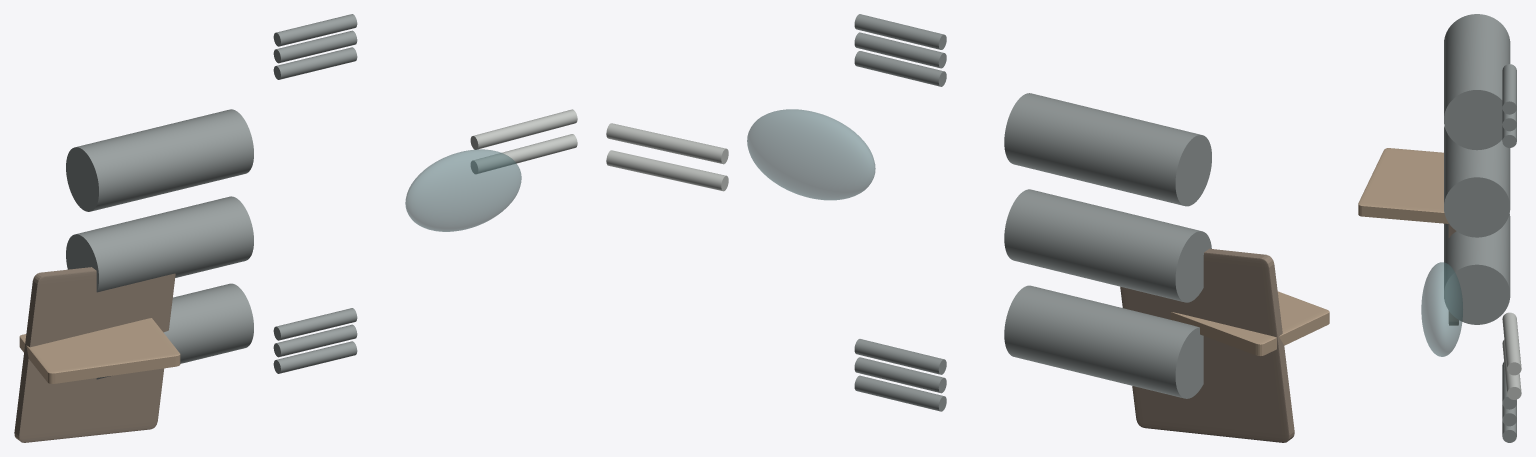
Rendered from d-u24-dominion-light-gunship-lod2.glb.
3 renders of one model, left to right at view 1: azimuth 30°, elevation 25°; view 2: azimuth 150°, elevation 25°; view 3: azimuth 270°, elevation 25°, orthographic. The views are drawn at different scales.
Visible parts, largest first — view 1: combat_tailplane_-1, combat_engine_2, combat_engine_1, combat_canopy, combat_fin_-1, combat_engine_0, combat_gun_barrel_1, combat_gun_barrel_0, combat_1_tube_3, combat_-1_tube_1, combat_1_tube_1, combat_-1_tube_2 (+2 smaller); view 2: combat_tailplane_-1, combat_engine_2, combat_engine_1, combat_engine_0, combat_canopy, combat_fin_-1, combat_gun_barrel_1, combat_gun_barrel_0, combat_-1_tube_1, combat_-1_tube_3, combat_1_tube_1, combat_1_tube_3 (+2 smaller); view 3: combat_engine_2, combat_engine_0, combat_engine_1, combat_fin_-1, combat_canopy, combat_gun_barrel_1, combat_1_tube_3, combat_gun_barrel_0, combat_-1_tube_3, combat_-1_tube_2, combat_1_tube_2, combat_-1_tube_1 (+1 smaller).
Part boxes in pixels (x1,y1,x2,y2): combat_tailplane_-1: (14, 267, 175, 442); combat_engine_2: (66, 109, 253, 211); combat_engine_1: (66, 196, 253, 292); combat_canopy: (405, 149, 521, 231); combat_fin_-1: (19, 318, 180, 383); combat_engine_0: (96, 283, 253, 379); combat_gun_barrel_1: (470, 109, 577, 149); combat_gun_barrel_0: (471, 134, 577, 173); combat_1_tube_3: (273, 14, 357, 46); combat_-1_tube_1: (273, 341, 357, 373); combat_1_tube_1: (273, 47, 357, 79); combat_-1_tube_2: (273, 324, 357, 357); combat_tailplane_-1: (1120, 248, 1294, 442); combat_engine_2: (1004, 93, 1211, 206); combat_engine_1: (1004, 189, 1211, 302); combat_engine_0: (1004, 285, 1203, 398); combat_canopy: (747, 109, 875, 200); combat_fin_-1: (1170, 291, 1329, 355); combat_gun_barrel_1: (606, 123, 728, 164); combat_gun_barrel_0: (606, 150, 728, 191); combat_-1_tube_1: (854, 375, 946, 411); combat_-1_tube_3: (854, 339, 946, 374); combat_1_tube_1: (854, 51, 946, 86); combat_1_tube_3: (854, 14, 946, 49); combat_engine_2: (1444, 14, 1510, 150); combat_engine_0: (1444, 214, 1510, 324); combat_engine_1: (1444, 126, 1510, 237); combat_fin_-1: (1358, 148, 1448, 223); combat_canopy: (1421, 262, 1462, 356); combat_gun_barrel_1: (1502, 312, 1521, 375); combat_1_tube_3: (1502, 64, 1516, 114); combat_gun_barrel_0: (1502, 340, 1521, 399); combat_-1_tube_3: (1502, 362, 1516, 409); combat_-1_tube_2: (1502, 404, 1516, 426); combat_1_tube_2: (1502, 109, 1516, 131); combat_-1_tube_1: (1502, 420, 1516, 442).
Size of what is drawn, in the model's own units: 12.83 by 7.09 by 3.07.
